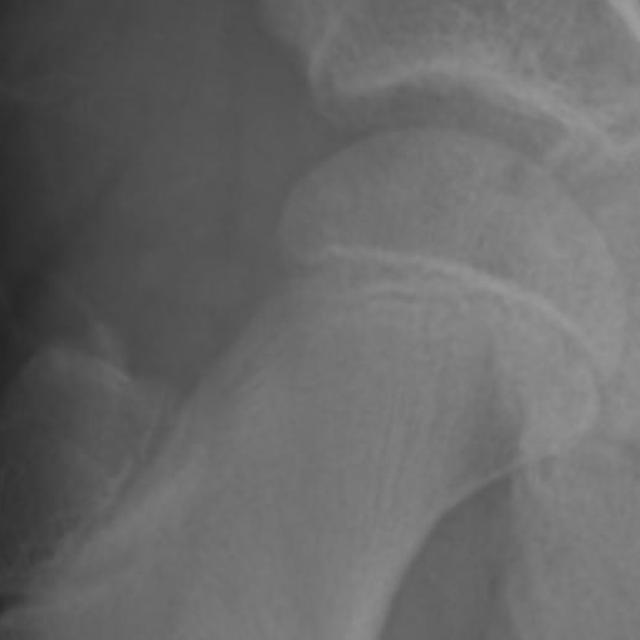Fitted_femural_head: (379, 131, 432, 379)
